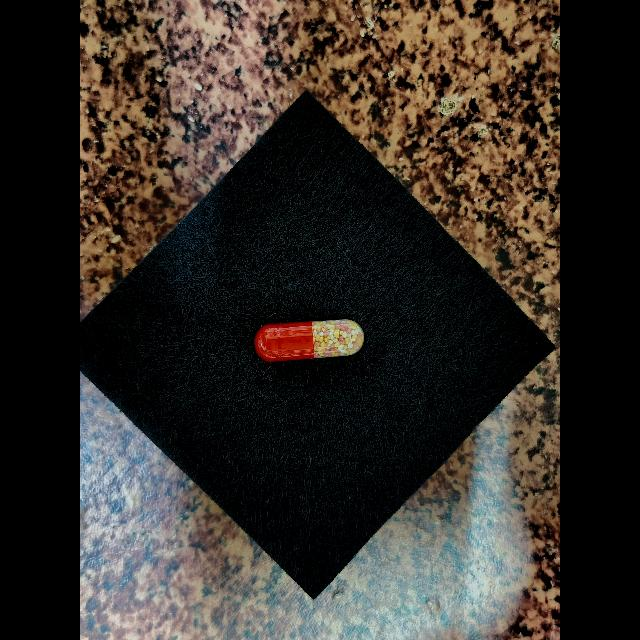Intact Capsule: (254, 319, 364, 361)
